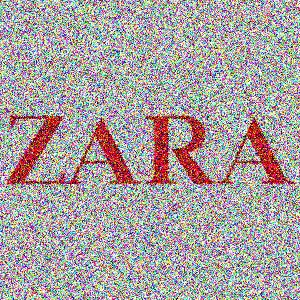zara: (296, 54, 300, 162)
